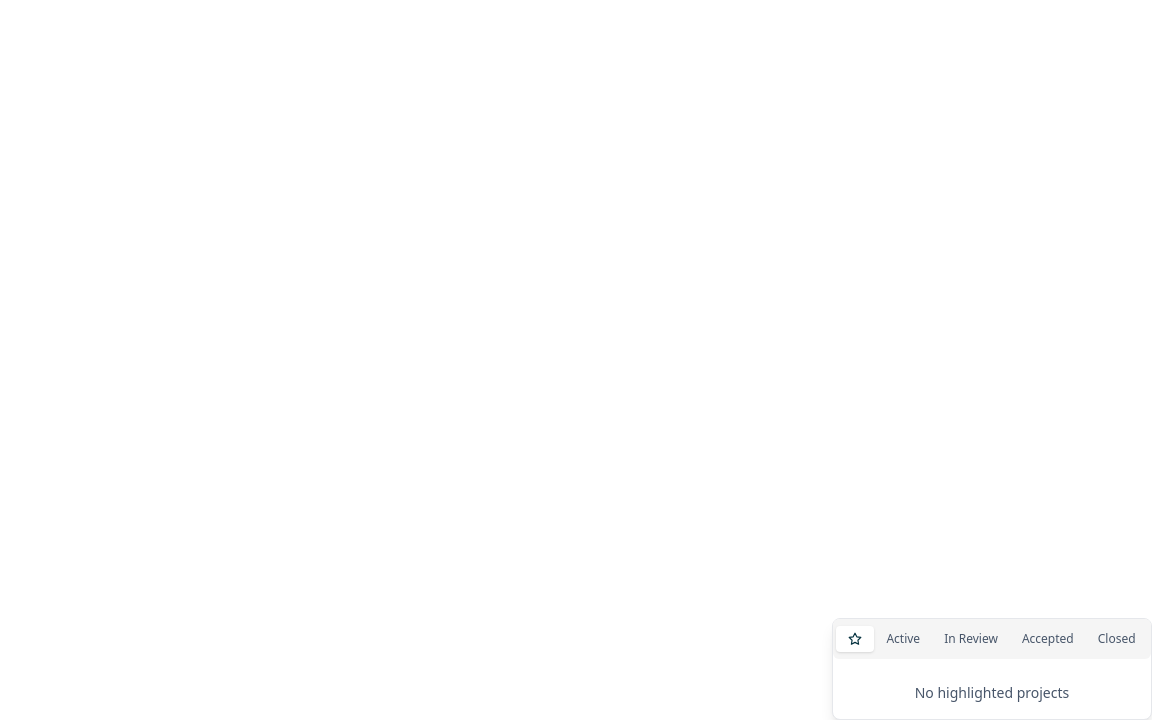
ProjectsListFloating › shows loading state
(page scrolled)
Click the tab "Active" at (903, 639), box [874,625,932,653]
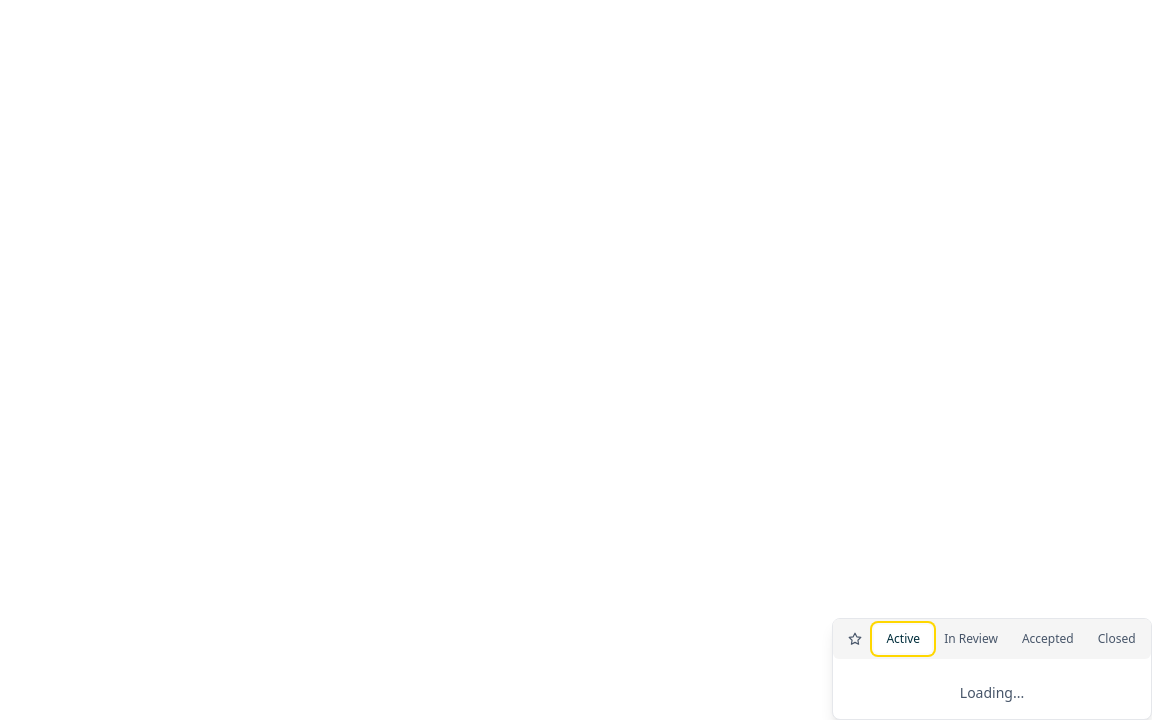
Check: the text "Loading..." is shown, box [960,683,1024,702]
